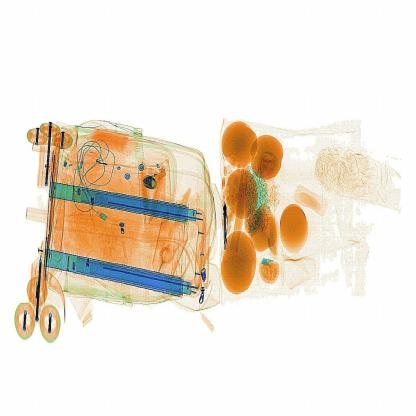knife: (214, 197, 234, 264)
